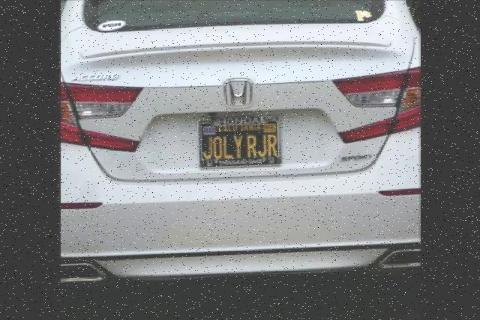LicensePlate: (198, 112, 280, 168)
